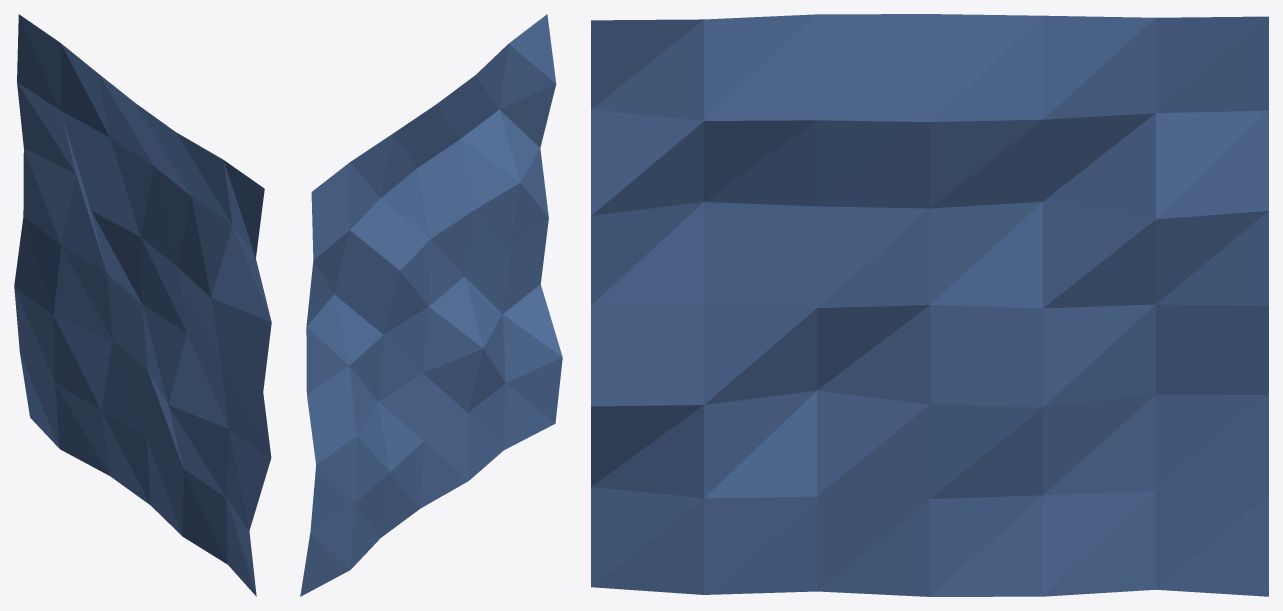
The model's file is SkyPlane.FBX.
The picture shows the model from 3 angles, left to right: view 1: azimuth 30°, elevation 25°; view 2: azimuth 150°, elevation 25°; view 3: azimuth 270°, elevation 25°; orthographic projection. The views are drawn at different scales.
Parts seen in each view (by area): view 1: SkyPlane; view 2: SkyPlane; view 3: SkyPlane.
Part boxes in pixels (x1=…): SkyPlane: x1=14, y1=14, x2=271, y2=596; SkyPlane: x1=300, y1=14, x2=562, y2=596; SkyPlane: x1=591, y1=14, x2=1268, y2=596.
Bounding box in the file's own units: 6998 × 96071 × 103082.
